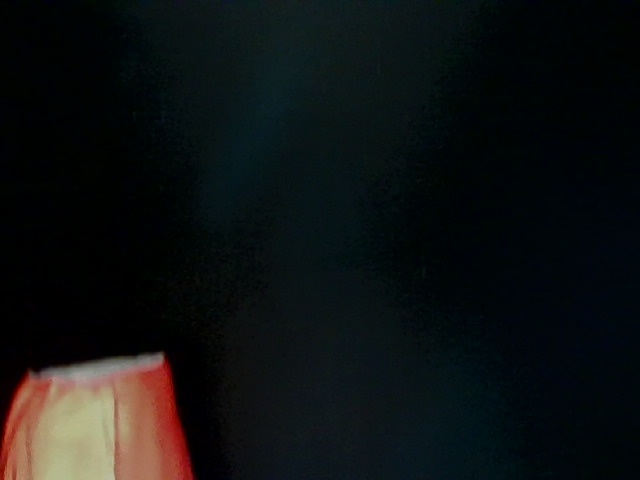CYLJ: (3, 348, 217, 480)
